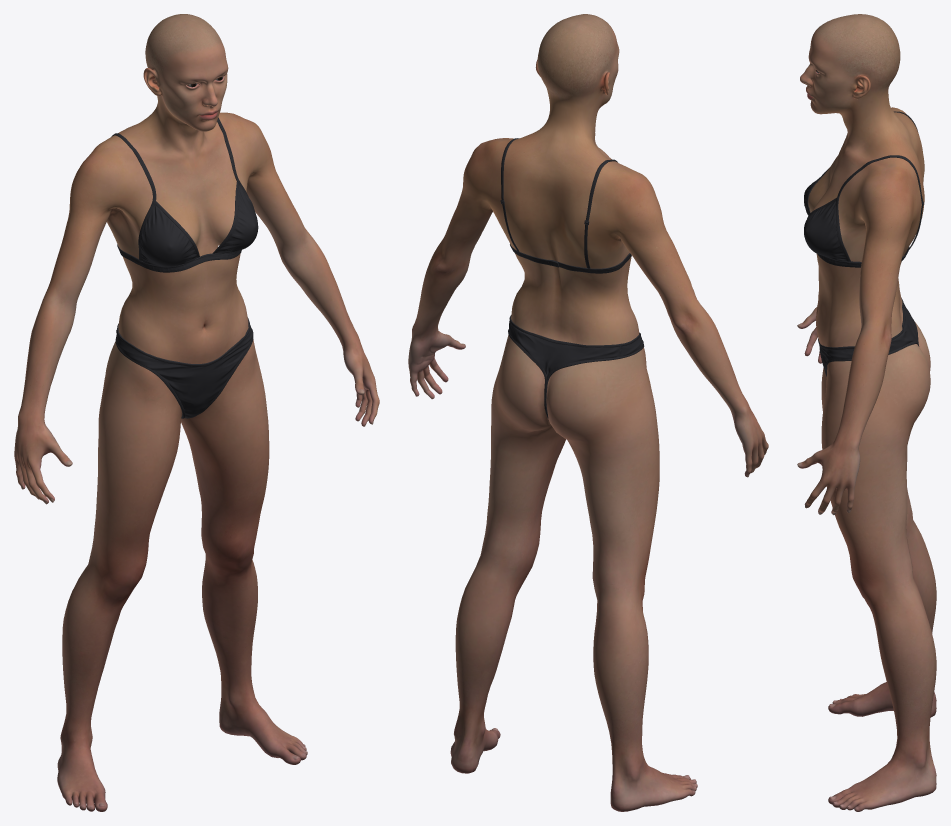
The model's file is skin-morph.glb.
3 views of the same model, side by side, from view 1: azimuth 30°, elevation 25°; view 2: azimuth 150°, elevation 25°; view 3: azimuth 270°, elevation 25° (orthographic). The views are drawn at different scales.
Visible parts, largest first — view 1: Body_m, Female_Clothes_m; view 2: Body_m, Female_Clothes_m; view 3: Body_m, Female_Clothes_m.
Boxes of the visible parts, x1,y1,x2,y2 form: Body_m: [14, 14, 379, 811]; Female_Clothes_m: [111, 117, 258, 418]; Body_m: [408, 14, 768, 811]; Female_Clothes_m: [500, 138, 644, 418]; Body_m: [797, 14, 936, 811]; Female_Clothes_m: [804, 111, 923, 376].
Bounding box in the file's own units: 0.8143 × 1.69 × 0.2876.
Materials: 4 (3 with a texture image).
